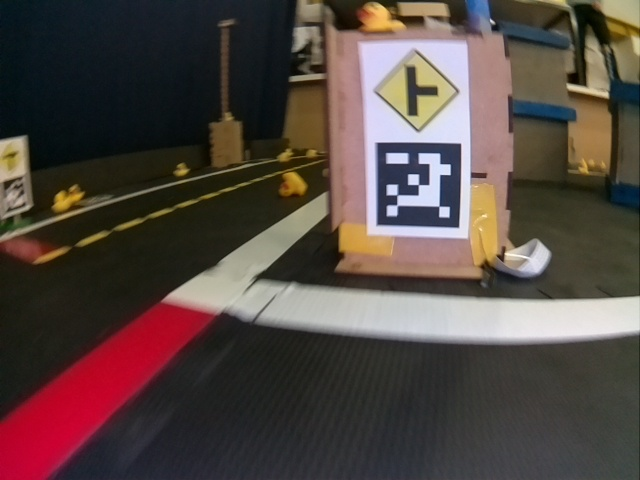Duckie: (356, 4, 403, 32), (281, 172, 307, 196), (53, 192, 70, 211), (70, 185, 84, 201), (173, 163, 189, 176), (279, 152, 289, 162)
Intersection sign: (371, 48, 461, 133), (1, 137, 28, 175)
QR code: (370, 140, 466, 235), (1, 182, 30, 213)
